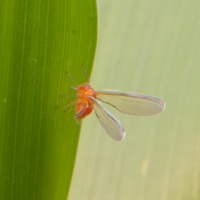insect: (68, 83, 164, 140)
